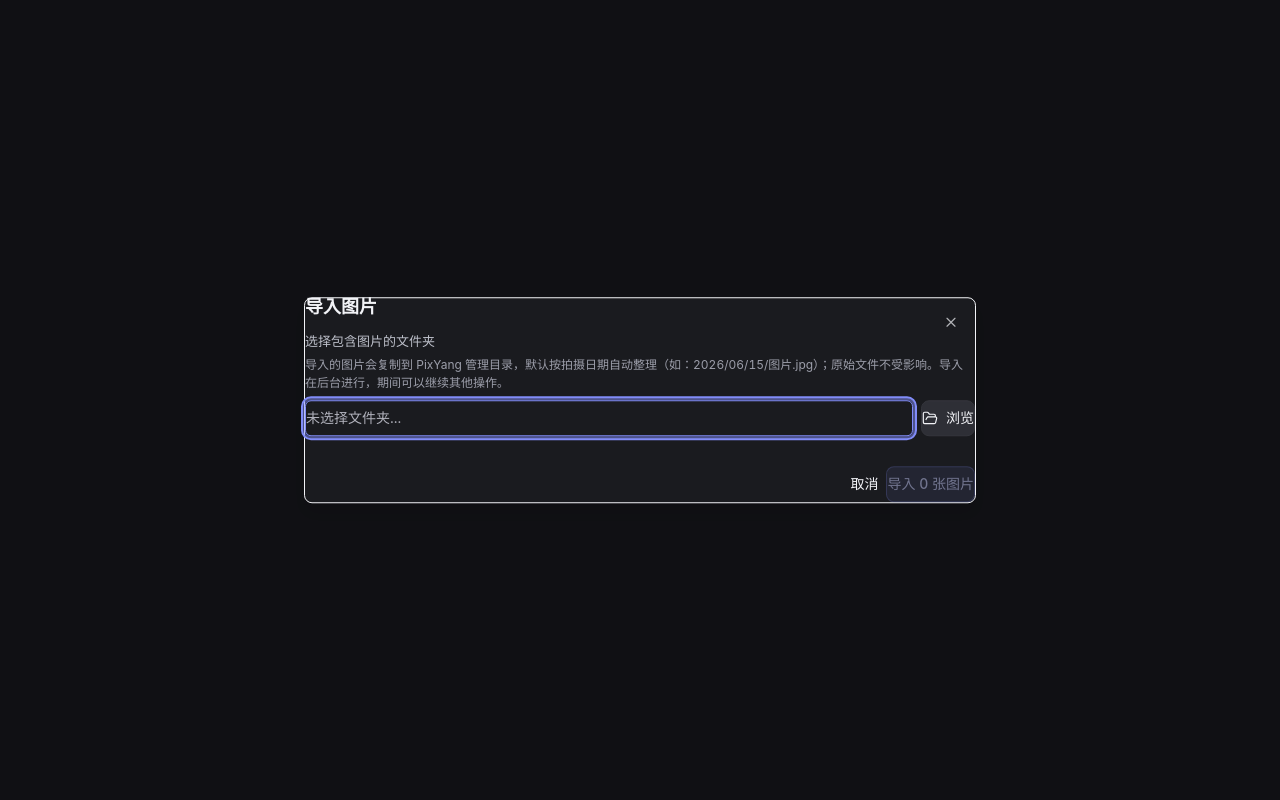
ImportDialog › 回归：重扫出 0 个文件时勾选集清零，底部按钮不得残留上一目录的假数字（R104）
Step 1. Click the button "浏览" → point(948, 418), box [921,400,975,436]
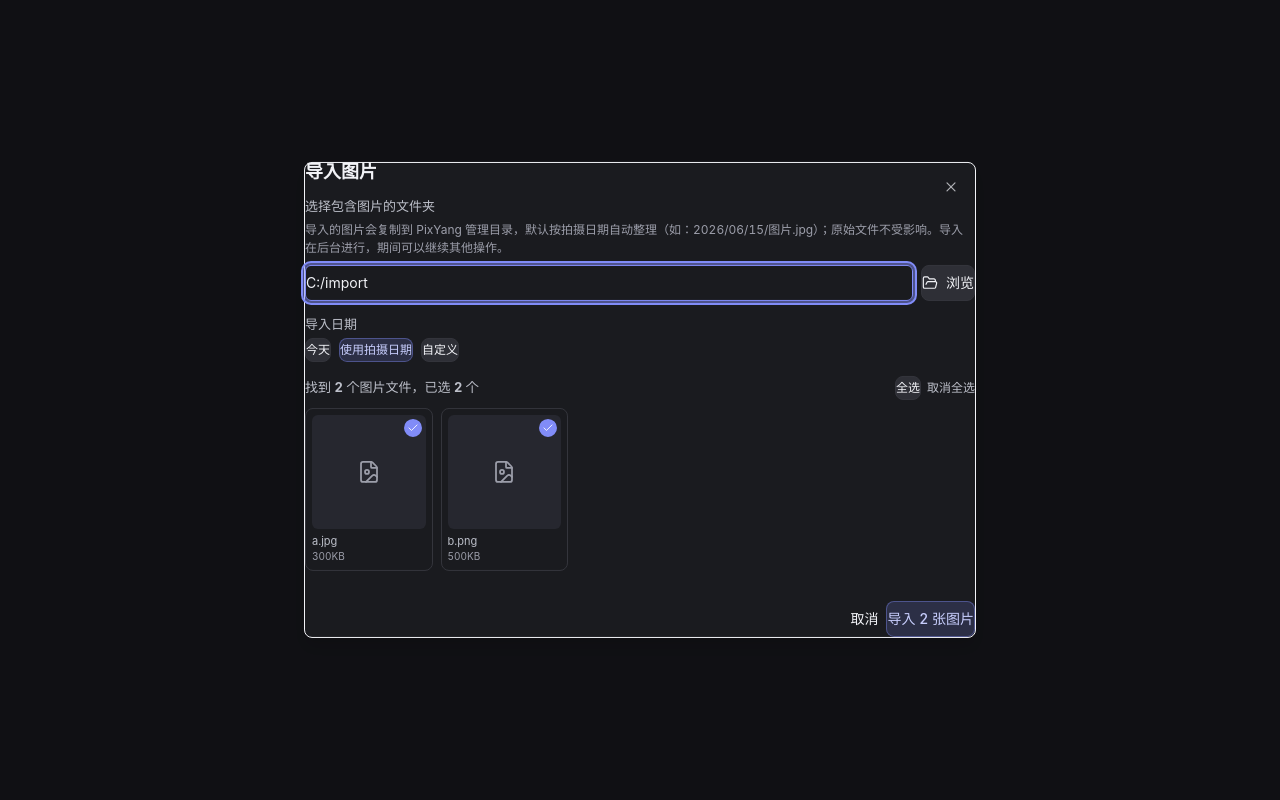
Expected: the button "导入 2 张图片" is enabled, [886,601,975,637]
Step 2. Click the button "浏览" → point(948, 282), box [921,264,975,300]
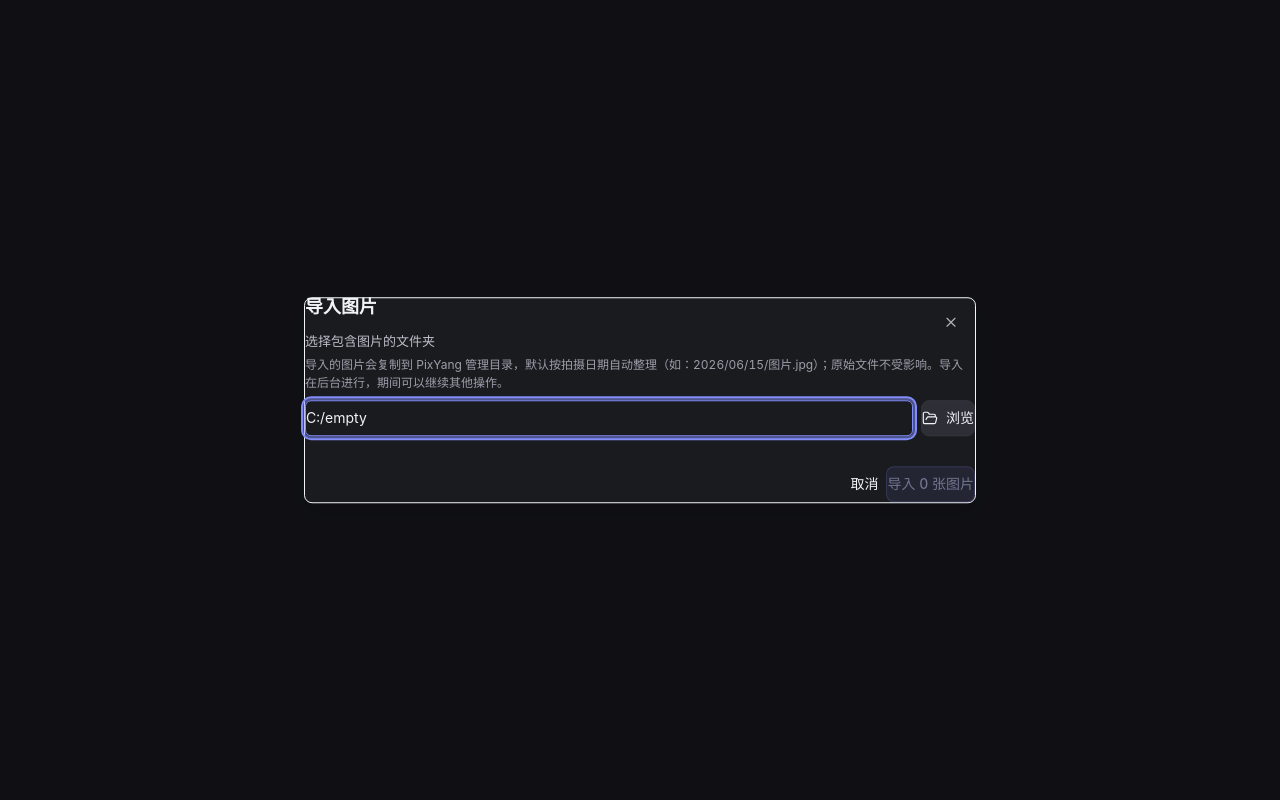
Expected: the field showing "C:/empty" is shown, [305,400,913,436]
Expected: the button "导入 0 张图片" is disabled, [886,466,975,502]
